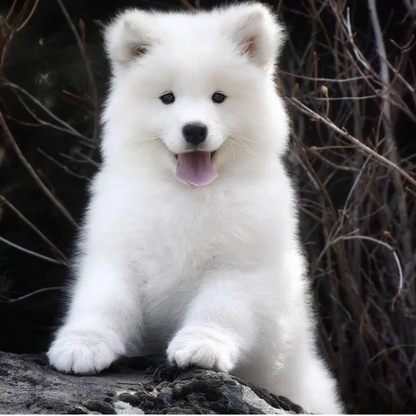samoyed: (44, 1, 352, 416)
